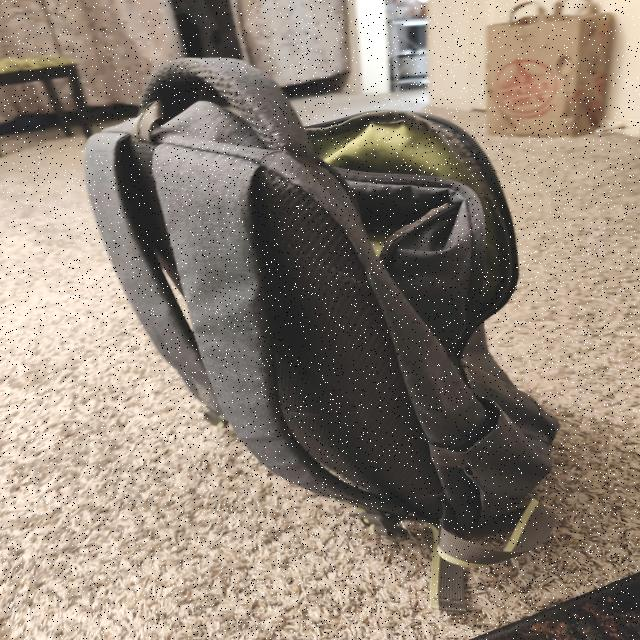bag: (137, 108, 500, 450), (180, 176, 514, 446), (574, 452, 580, 454)
